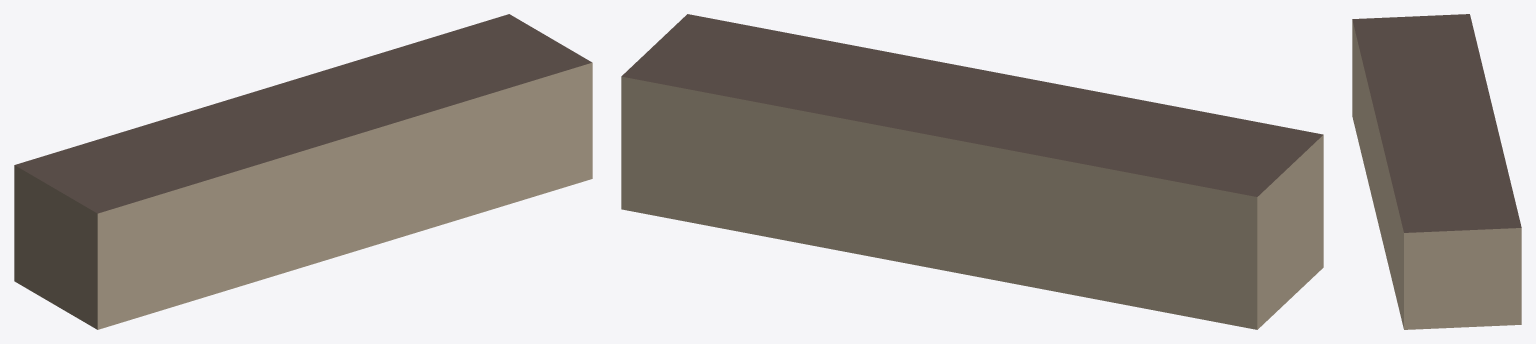
3 views of the same model, side by side, from view 1: azimuth 30°, elevation 25°; view 2: azimuth 150°, elevation 25°; view 3: azimuth 270°, elevation 25° (orthographic). The views are drawn at different scales.
Visible parts, largest first — view 1: HP-w1233759515; view 2: HP-w1233759515; view 3: HP-w1233759515.
Boxes of the visible parts, <box> form: HP-w1233759515: <box>14,14,592,329</box>; HP-w1233759515: <box>621,14,1323,329</box>; HP-w1233759515: <box>1352,14,1521,329</box>.
Size of the model in its own units: 43.6 by 9 by 14.26.
